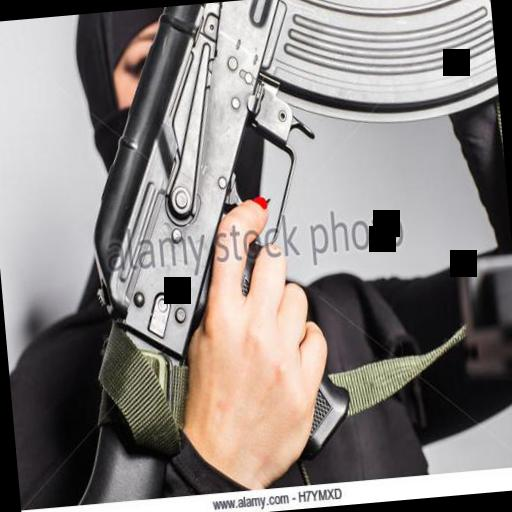Handgun: (32, 0, 363, 504)
